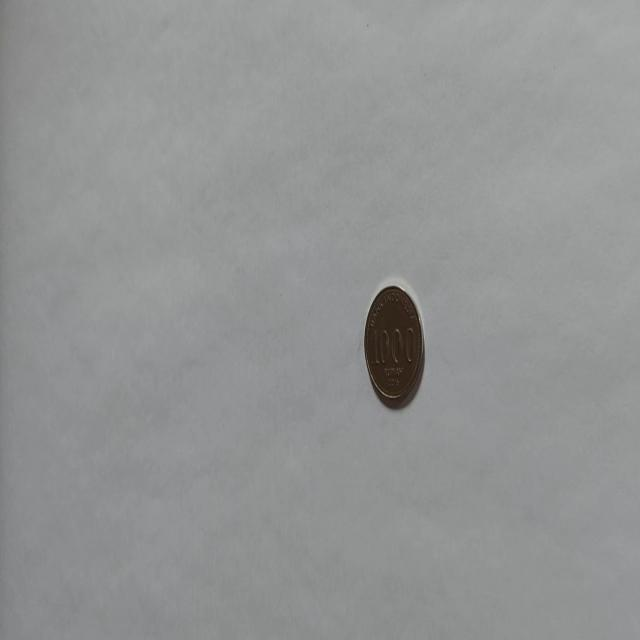seribu rupiah koin: (362, 281, 426, 409)
